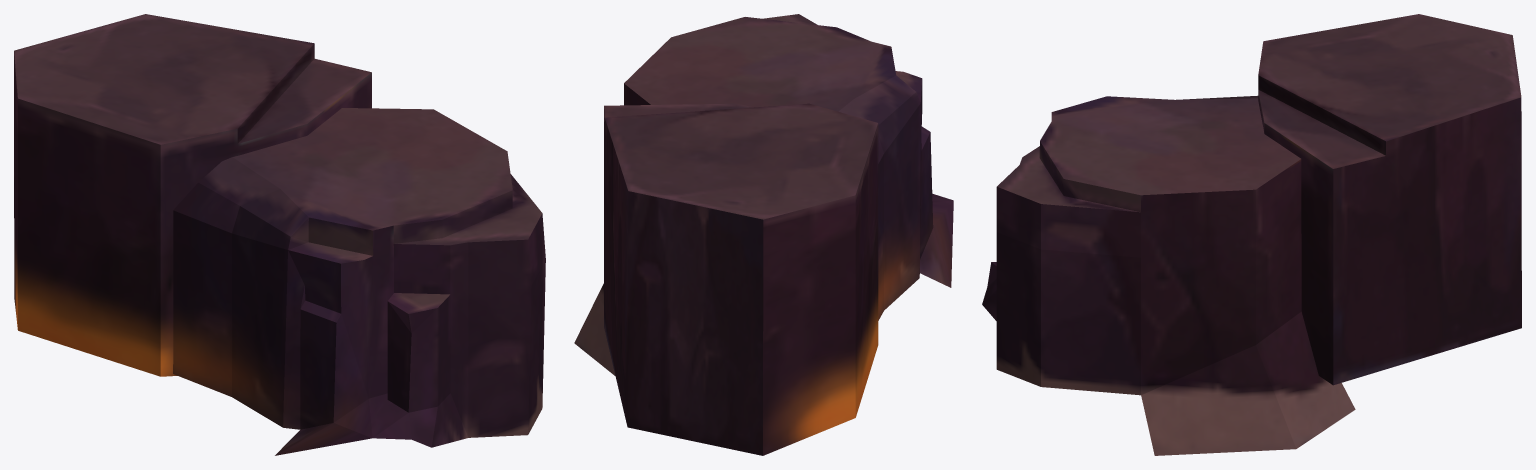
The model's file is rongyanshitou.FBX.
3 renders of one model, left to right at view 1: azimuth 30°, elevation 25°; view 2: azimuth 150°, elevation 25°; view 3: azimuth 270°, elevation 25°, orthographic. The views are drawn at different scales.
Parts seen in each view (by area): view 1: rongyanshitou; view 2: rongyanshitou; view 3: rongyanshitou.
Part boxes in pixels (left/top/right/bottom): rongyanshitou: left=14, top=14, right=545, bottom=455; rongyanshitou: left=574, top=14, right=953, bottom=455; rongyanshitou: left=982, top=14, right=1521, bottom=455.
Size of the model in its own units: 9.27 by 6.87 by 12.38.
